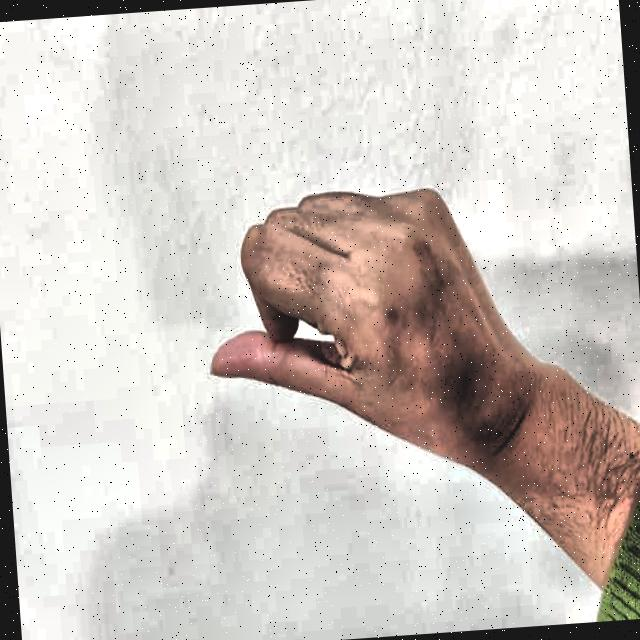Ay: (176, 118, 504, 526)
